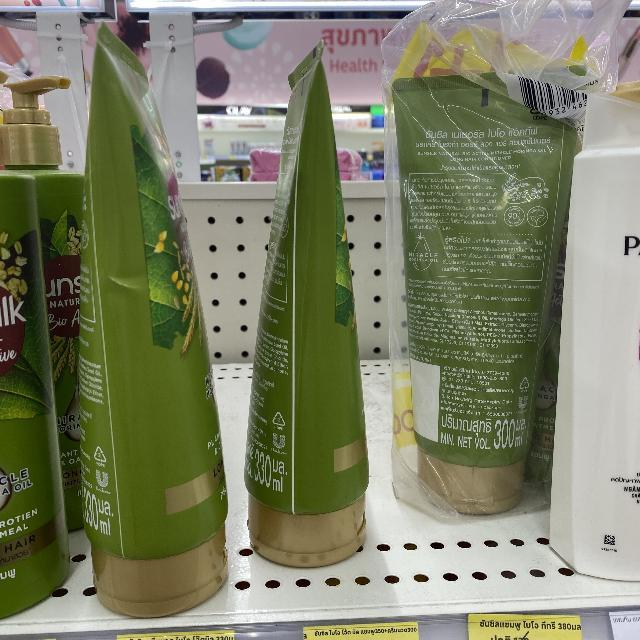Squeeze Tube: (39, 13, 396, 624)
